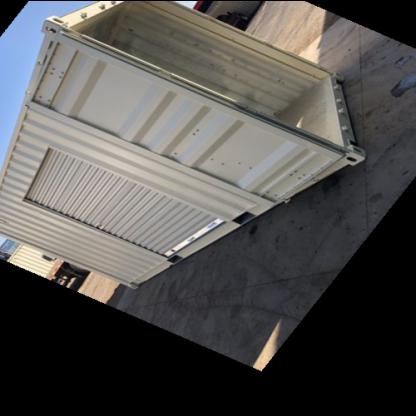Damage: (127, 31, 290, 100), (170, 124, 306, 190)
